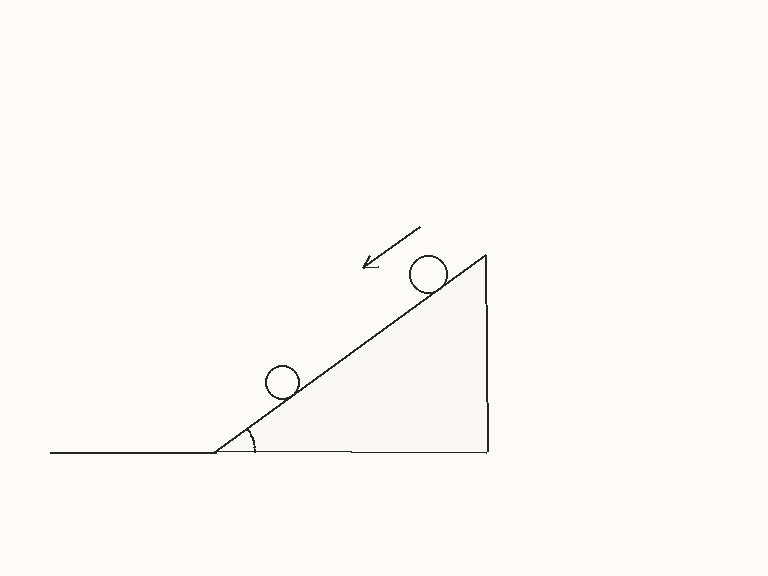ball: (407, 253, 449, 295), (263, 363, 301, 401)
ramp: (213, 253, 488, 454)
